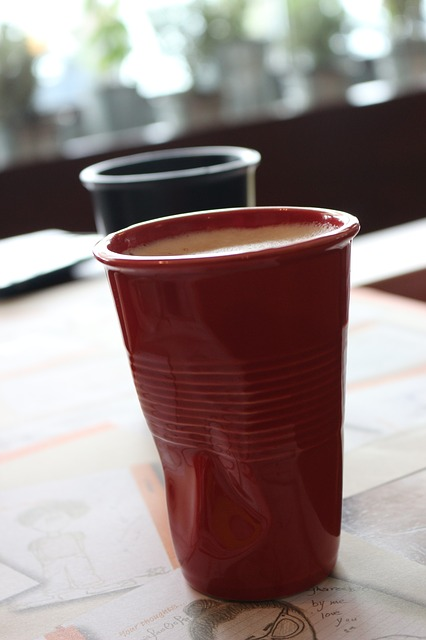cup: (83, 199, 375, 609)
